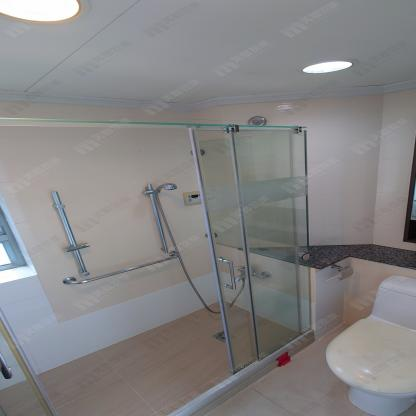Toilet: (322, 274, 416, 416)
Water Cubicle: (0, 119, 316, 416)
